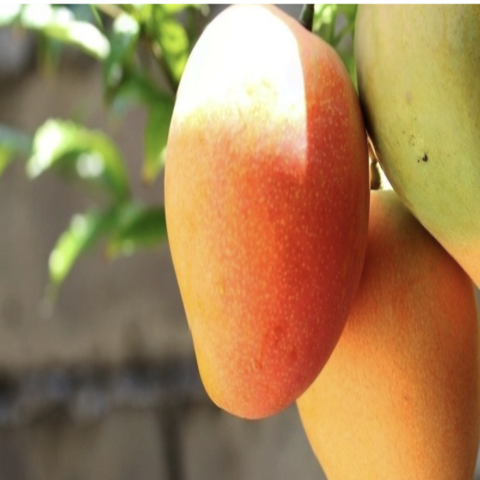mango: (146, 2, 399, 460)
